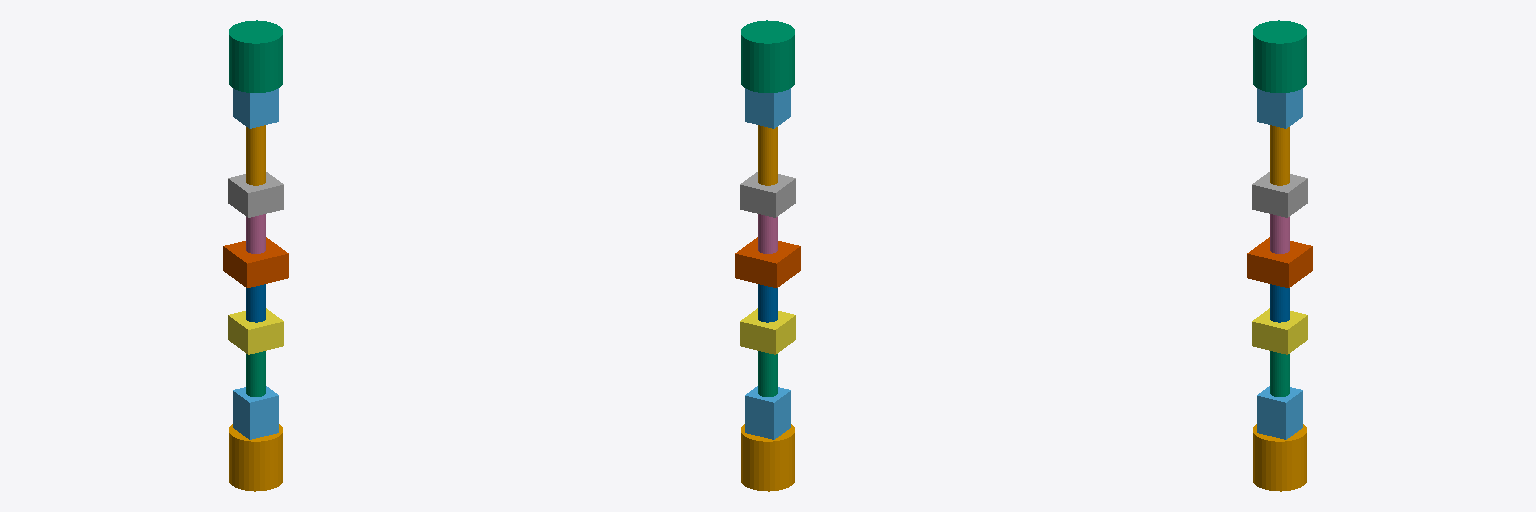
robot.urdf — icd_bamboo_mobile_robot:
<?xml version="1.0"?>
<!-- ICD/LIS Bamboo Mobile Robot
     5-DOF symmetric brachiation robot for bamboo bundle construction.
     
     Team: Nicolas Kubail Kalousdian, Samuel Leder, Achim Menges, Marc Toussaint
     Institute for Computational Design and Construction (ICD), University of Stuttgart
     Learning, Intelligent Systems Lab (LIS), University of Tübingen
     
     Published kinematics: RAL 2022 (Kalousdian et al., "Learning Robotic Manipulation 
     of Natural Materials with Variable Properties for Construction Tasks")
     
     5-DOF symmetric chain:
     - θ1: Wrist Z-axis [-170°, 170°]
     - θ2: Elbow X-axis [-90°, 90°]  
     - θ3: Shoulder X-axis [-135°, 135°]
     - θ4: Elbow X-axis [-90°, 90°]
     - θ5: Wrist Z-axis [-170°, 170°]
     
     Dimensions: ~40 cm height, 2.3 kg mass (ACADIA 2021)
     Motors: Dynamixel MX-64 (shoulder, elbows), XL430-W250-T (wrists, claws)
     
     Note: Claws are variable-diameter grippers that adapt to irregular bamboo bundles.
     This URDF models claws as fixed geometry; actual hardware has adaptive grip.
-->
<robot name="icd_bamboo_mobile_robot">
  
  <!-- Base link: Left claw (can act as base or end-effector) -->
  <link name="base_link">
    <visual>
      <origin xyz="0 0 0" rpy="0 0 0"/>
      <geometry>
        <cylinder length="0.08" radius="0.04"/>
      </geometry>
    </visual>
    <collision>
      <origin xyz="0 0 0" rpy="0 0 0"/>
      <geometry>
        <cylinder length="0.08" radius="0.04"/>
      </geometry>
    </collision>
  </link>

  <!-- Wrist link 1 (small body segment after left claw) -->
  <link name="wrist1_link">
    <visual>
      <origin xyz="0 0 0.03" rpy="0 0 0"/>
      <geometry>
        <box size="0.05 0.05 0.06"/>
      </geometry>
    </visual>
    <collision>
      <origin xyz="0 0 0.03" rpy="0 0 0"/>
      <geometry>
        <box size="0.05 0.05 0.06"/>
      </geometry>
    </collision>
  </link>

  <!-- θ1: Left wrist (axial Z-axis rotation) -->
  <joint name="wrist1_joint" type="revolute">
    <parent link="base_link"/>
    <child link="wrist1_link"/>
    <origin xyz="0 0 0.04" rpy="0 0 0"/>
    <axis xyz="0 0 1"/>
    <limit lower="-2.967" upper="2.967" effort="10" velocity="3.0"/>
  </joint>

  <!-- Link segment between wrist1 and elbow1 -->
  <link name="link1">
    <visual>
      <origin xyz="0 0 0.05" rpy="0 0 0"/>
      <geometry>
        <cylinder length="0.10" radius="0.015"/>
      </geometry>
    </visual>
    <collision>
      <origin xyz="0 0 0.05" rpy="0 0 0"/>
      <geometry>
        <cylinder length="0.10" radius="0.015"/>
      </geometry>
    </collision>
  </link>

  <joint name="wrist1_to_link1" type="fixed">
    <parent link="wrist1_link"/>
    <child link="link1"/>
    <origin xyz="0 0 0.06" rpy="0 0 0"/>
  </joint>

  <!-- Elbow link 1 -->
  <link name="elbow1_link">
    <visual>
      <origin xyz="0 0 0" rpy="0 0 0"/>
      <geometry>
        <box size="0.06 0.06 0.04"/>
      </geometry>
    </visual>
    <collision>
      <origin xyz="0 0 0" rpy="0 0 0"/>
      <geometry>
        <box size="0.06 0.06 0.04"/>
      </geometry>
    </collision>
  </link>

  <!-- θ2: Left elbow (revolute X-axis) -->
  <joint name="elbow1_joint" type="revolute">
    <parent link="link1"/>
    <child link="elbow1_link"/>
    <origin xyz="0 0 0.10" rpy="0 0 0"/>
    <axis xyz="1 0 0"/>
    <limit lower="-1.571" upper="1.571" effort="10" velocity="3.0"/>
  </joint>

  <!-- Link segment between elbow1 and shoulder -->
  <link name="link2">
    <visual>
      <origin xyz="0 0 0.045" rpy="0 0 0"/>
      <geometry>
        <cylinder length="0.09" radius="0.015"/>
      </geometry>
    </visual>
    <collision>
      <origin xyz="0 0 0.045" rpy="0 0 0"/>
      <geometry>
        <cylinder length="0.09" radius="0.015"/>
      </geometry>
    </collision>
  </link>

  <joint name="elbow1_to_link2" type="fixed">
    <parent link="elbow1_link"/>
    <child link="link2"/>
    <origin xyz="0 0 0.02" rpy="0 0 0"/>
  </joint>

  <!-- Shoulder link (central pivot) -->
  <link name="shoulder_link">
    <visual>
      <origin xyz="0 0 0" rpy="0 0 0"/>
      <geometry>
        <box size="0.07 0.07 0.04"/>
      </geometry>
    </visual>
    <collision>
      <origin xyz="0 0 0" rpy="0 0 0"/>
      <geometry>
        <box size="0.07 0.07 0.04"/>
      </geometry>
    </collision>
  </link>

  <!-- θ3: Shoulder (central revolute X-axis) -->
  <joint name="shoulder_joint" type="revolute">
    <parent link="link2"/>
    <child link="shoulder_link"/>
    <origin xyz="0 0 0.09" rpy="0 0 0"/>
    <axis xyz="1 0 0"/>
    <limit lower="-2.356" upper="2.356" effort="10" velocity="3.0"/>
  </joint>

  <!-- Link segment between shoulder and elbow2 -->
  <link name="link3">
    <visual>
      <origin xyz="0 0 0.045" rpy="0 0 0"/>
      <geometry>
        <cylinder length="0.09" radius="0.015"/>
      </geometry>
    </visual>
    <collision>
      <origin xyz="0 0 0.045" rpy="0 0 0"/>
      <geometry>
        <cylinder length="0.09" radius="0.015"/>
      </geometry>
    </collision>
  </link>

  <joint name="shoulder_to_link3" type="fixed">
    <parent link="shoulder_link"/>
    <child link="link3"/>
    <origin xyz="0 0 0.02" rpy="0 0 0"/>
  </joint>

  <!-- Elbow link 2 -->
  <link name="elbow2_link">
    <visual>
      <origin xyz="0 0 0" rpy="0 0 0"/>
      <geometry>
        <box size="0.06 0.06 0.04"/>
      </geometry>
    </visual>
    <collision>
      <origin xyz="0 0 0" rpy="0 0 0"/>
      <geometry>
        <box size="0.06 0.06 0.04"/>
      </geometry>
    </collision>
  </link>

  <!-- θ4: Right elbow (revolute X-axis) -->
  <joint name="elbow2_joint" type="revolute">
    <parent link="link3"/>
    <child link="elbow2_link"/>
    <origin xyz="0 0 0.09" rpy="0 0 0"/>
    <axis xyz="1 0 0"/>
    <limit lower="-1.571" upper="1.571" effort="10" velocity="3.0"/>
  </joint>

  <!-- Link segment between elbow2 and wrist2 -->
  <link name="link4">
    <visual>
      <origin xyz="0 0 0.05" rpy="0 0 0"/>
      <geometry>
        <cylinder length="0.10" radius="0.015"/>
      </geometry>
    </visual>
    <collision>
      <origin xyz="0 0 0.05" rpy="0 0 0"/>
      <geometry>
        <cylinder length="0.10" radius="0.015"/>
      </geometry>
    </collision>
  </link>

  <joint name="elbow2_to_link4" type="fixed">
    <parent link="elbow2_link"/>
    <child link="link4"/>
    <origin xyz="0 0 0.02" rpy="0 0 0"/>
  </joint>

  <!-- Wrist link 2 (small body segment before right claw) -->
  <link name="wrist2_link">
    <visual>
      <origin xyz="0 0 0.03" rpy="0 0 0"/>
      <geometry>
        <box size="0.05 0.05 0.06"/>
      </geometry>
    </visual>
    <collision>
      <origin xyz="0 0 0.03" rpy="0 0 0"/>
      <geometry>
        <box size="0.05 0.05 0.06"/>
      </geometry>
    </collision>
  </link>

  <!-- θ5: Right wrist (axial Z-axis rotation) -->
  <joint name="wrist2_joint" type="revolute">
    <parent link="link4"/>
    <child link="wrist2_link"/>
    <origin xyz="0 0 0.10" rpy="0 0 0"/>
    <axis xyz="0 0 1"/>
    <limit lower="-2.967" upper="2.967" effort="10" velocity="3.0"/>
  </joint>

  <!-- Right claw (end effector) -->
  <link name="right_claw">
    <visual>
      <origin xyz="0 0 0.04" rpy="0 0 0"/>
      <geometry>
        <cylinder length="0.08" radius="0.04"/>
      </geometry>
    </visual>
    <collision>
      <origin xyz="0 0 0.04" rpy="0 0 0"/>
      <geometry>
        <cylinder length="0.08" radius="0.04"/>
      </geometry>
    </collision>
  </link>

  <joint name="wrist2_to_claw" type="fixed">
    <parent link="wrist2_link"/>
    <child link="right_claw"/>
    <origin xyz="0 0 0.06" rpy="0 0 0"/>
  </joint>

  <!-- Tool frame at right claw tip -->
  <link name="tool0"/>

  <joint name="tool0_joint" type="fixed">
    <parent link="right_claw"/>
    <child link="tool0"/>
    <origin xyz="0 0 0.08" rpy="0 0 0"/>
  </joint>

</robot>

--- What the picture shows (computed from the rendered views, not written in the file) ---
3 views of the same robot in one strip: view 1: azimuth 30°, elevation 25°; view 2: azimuth 150°, elevation 25°; view 3: azimuth 330°, elevation 25° (orthographic).
Model icd_bamboo_mobile_robot with 12 links and 11 joints (5 revolute, 6 fixed), rooted at base_link, posed every joint at zero.
Links seen in each view (by area): view 1: right_claw, base_link, shoulder_link, wrist1_link, elbow1_link, elbow2_link, wrist2_link, link4, link1, link3, link2; view 2: right_claw, base_link, shoulder_link, wrist1_link, elbow1_link, elbow2_link, wrist2_link, link4, link1, link3, link2; view 3: right_claw, base_link, shoulder_link, wrist1_link, elbow1_link, elbow2_link, wrist2_link, link4, link1, link3, link2.
Link boxes in pixels (x1=…): right_claw: x1=229, y1=20, x2=282, y2=92; base_link: x1=229, y1=424, x2=282, y2=491; shoulder_link: x1=223, y1=237, x2=288, y2=287; wrist1_link: x1=233, y1=386, x2=278, y2=439; elbow1_link: x1=228, y1=308, x2=283, y2=354; elbow2_link: x1=228, y1=172, x2=283, y2=217; wrist2_link: x1=233, y1=88, x2=278, y2=128; link4: x1=246, y1=125, x2=265, y2=185; link1: x1=246, y1=351, x2=265, y2=396; link3: x1=246, y1=214, x2=265, y2=253; link2: x1=246, y1=284, x2=265, y2=322; right_claw: x1=741, y1=20, x2=794, y2=92; base_link: x1=741, y1=424, x2=794, y2=491; shoulder_link: x1=735, y1=237, x2=800, y2=287; wrist1_link: x1=745, y1=386, x2=790, y2=439; elbow1_link: x1=740, y1=308, x2=795, y2=354; elbow2_link: x1=740, y1=172, x2=795, y2=217; wrist2_link: x1=745, y1=88, x2=790, y2=128; link4: x1=758, y1=125, x2=777, y2=185; link1: x1=758, y1=351, x2=777, y2=396; link3: x1=758, y1=214, x2=777, y2=253; link2: x1=758, y1=284, x2=777, y2=322; right_claw: x1=1253, y1=20, x2=1306, y2=92; base_link: x1=1253, y1=424, x2=1306, y2=491; shoulder_link: x1=1247, y1=237, x2=1312, y2=287; wrist1_link: x1=1257, y1=386, x2=1302, y2=439; elbow1_link: x1=1252, y1=308, x2=1307, y2=354; elbow2_link: x1=1252, y1=172, x2=1307, y2=217; wrist2_link: x1=1257, y1=88, x2=1302, y2=128; link4: x1=1270, y1=125, x2=1289, y2=185; link1: x1=1270, y1=351, x2=1289, y2=396; link3: x1=1270, y1=214, x2=1289, y2=253; link2: x1=1270, y1=284, x2=1289, y2=322.
Size in the robot's own frame: 0.08 by 0.08 by 0.72 metres.
Geometry: primitives only (box / cylinder / sphere), no mesh files.
